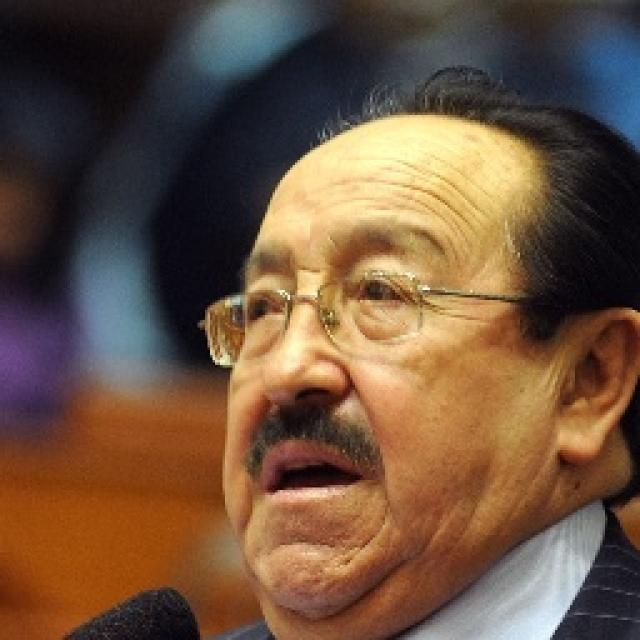earlobe: (558, 410, 603, 468)
eye: (353, 274, 408, 307), (244, 296, 283, 326)
nose: (252, 381, 357, 448)
wholeear: (559, 306, 640, 468)
